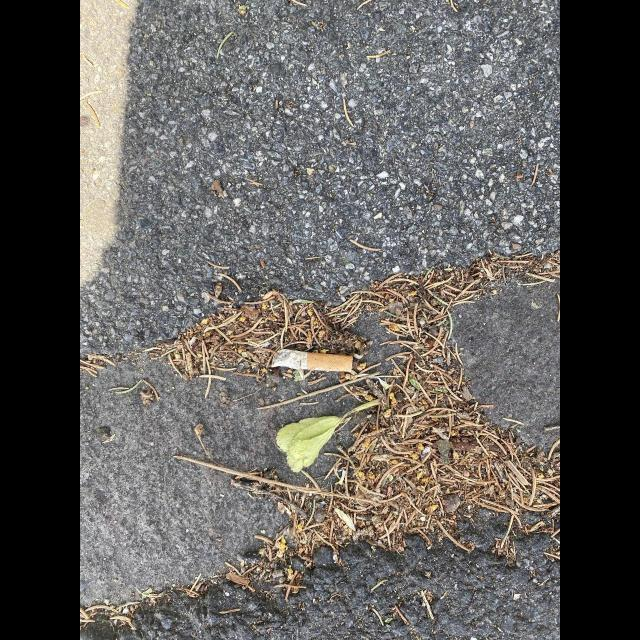cigarette: (272, 349, 353, 372)
